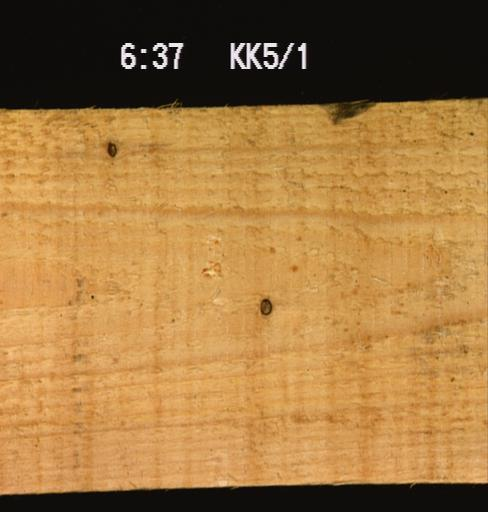dry_knot: (257, 297, 272, 315), (104, 139, 117, 156)
